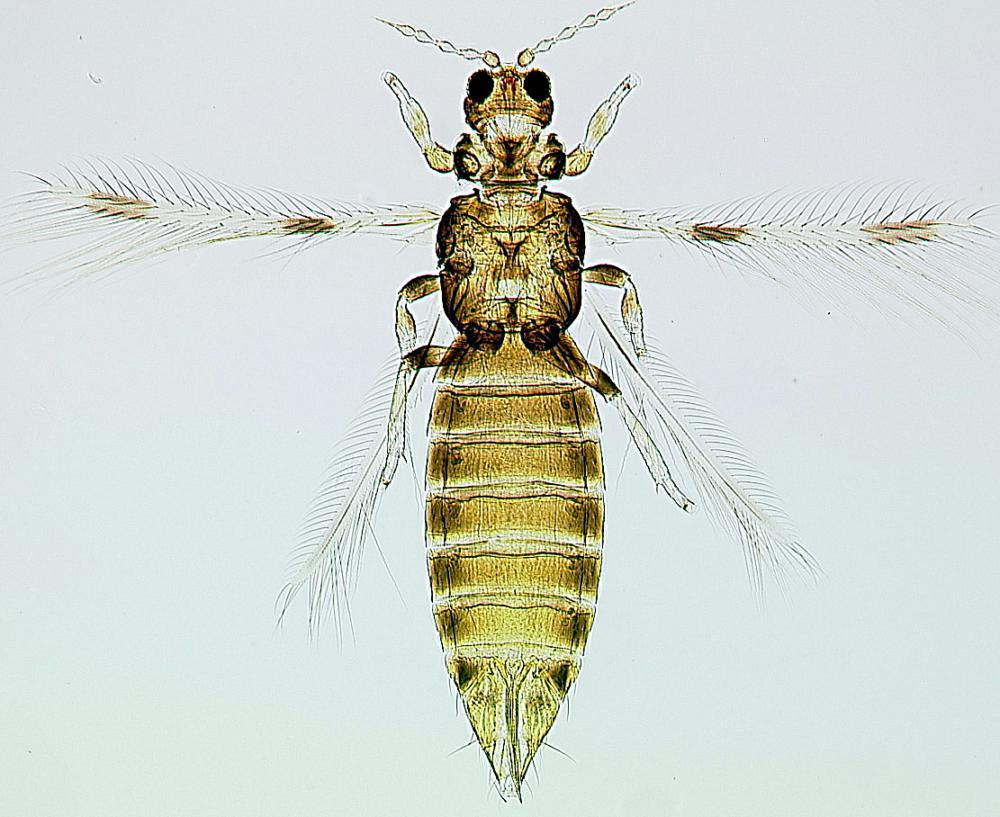Thrips: (51, 19, 957, 782)
